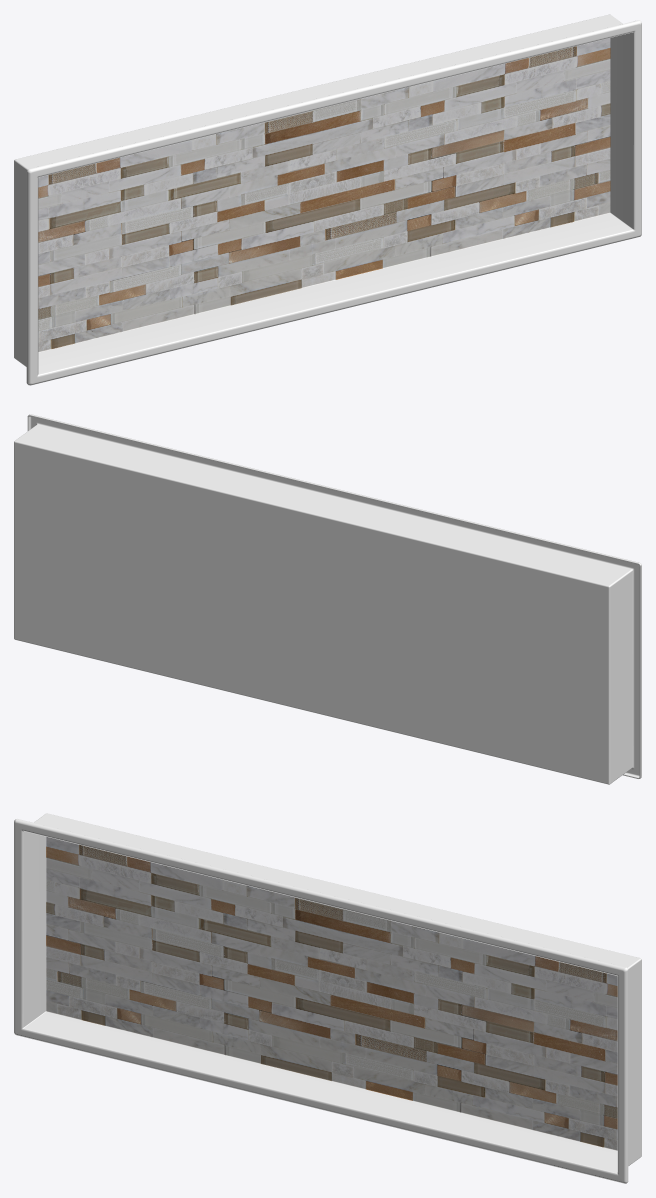
File: maax-nextile.glb
3 renders of one model, top to bottom at view 1: azimuth 30°, elevation 25°; view 2: azimuth 150°, elevation 25°; view 3: azimuth 330°, elevation 25°, orthographic.
Parts seen in each view (by area): view 1: Base; view 2: Base; view 3: Base.
Boxes of the visible parts, <box> form: Base: <box>14,14,641,385</box>; Base: <box>14,414,641,784</box>; Base: <box>14,813,641,1183</box>.
Size of the model in its own units: 1.53 by 0.5145 by 0.1055.
1 material, 1 textured.
